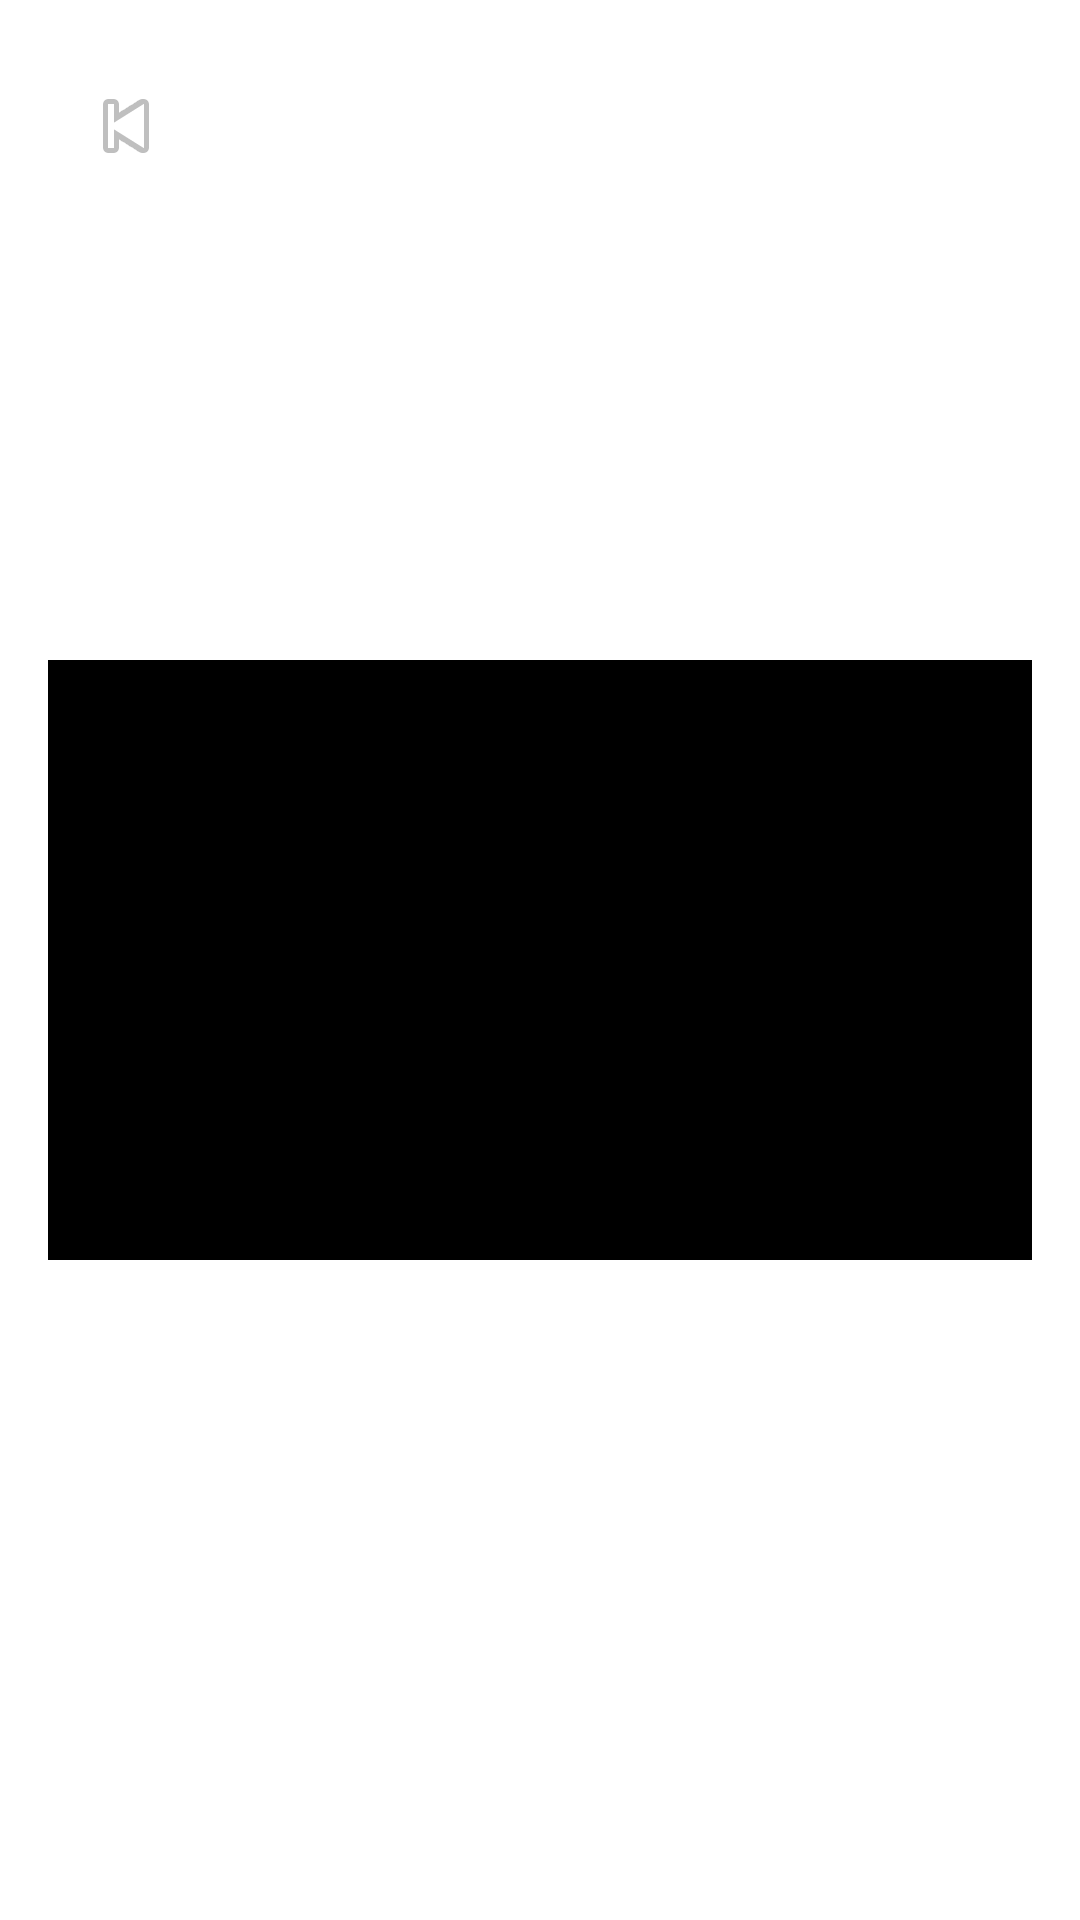

Screen size 1080px x 1920px. Icon name, then its box in pixels as (x1, y1, x2, y2):
previous: (103, 99, 149, 153)
